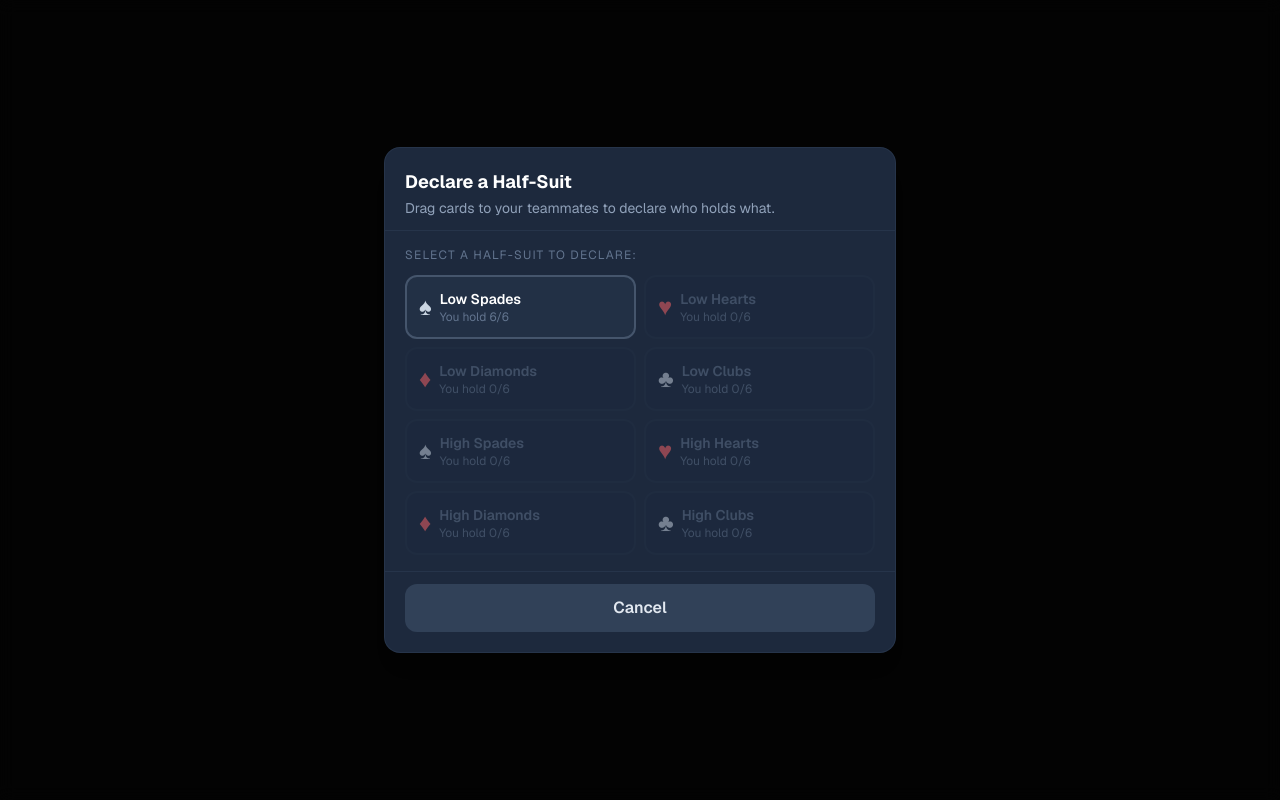
Test case: DeclareModal — tap-to-assign › all-hand-cards case shows "All cards assigned" message
What coordinates should you click on to do the following:
click the button "♠ Low Spades You hold 6/6"
I would click on:
 (520, 307)
Its box is [405,275,636,339].
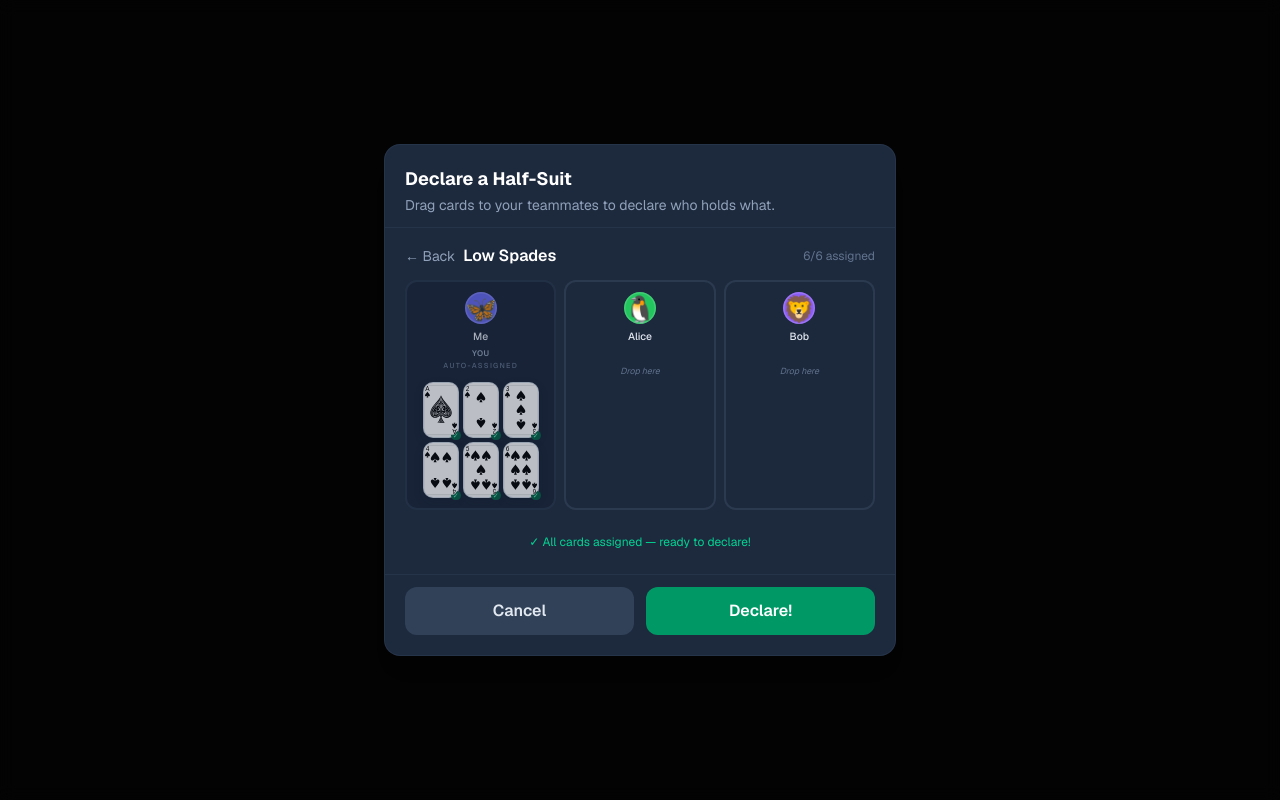
Now the text "✓ All cards assigned — ready to declare!" is shown, box [529,534,751,550]
